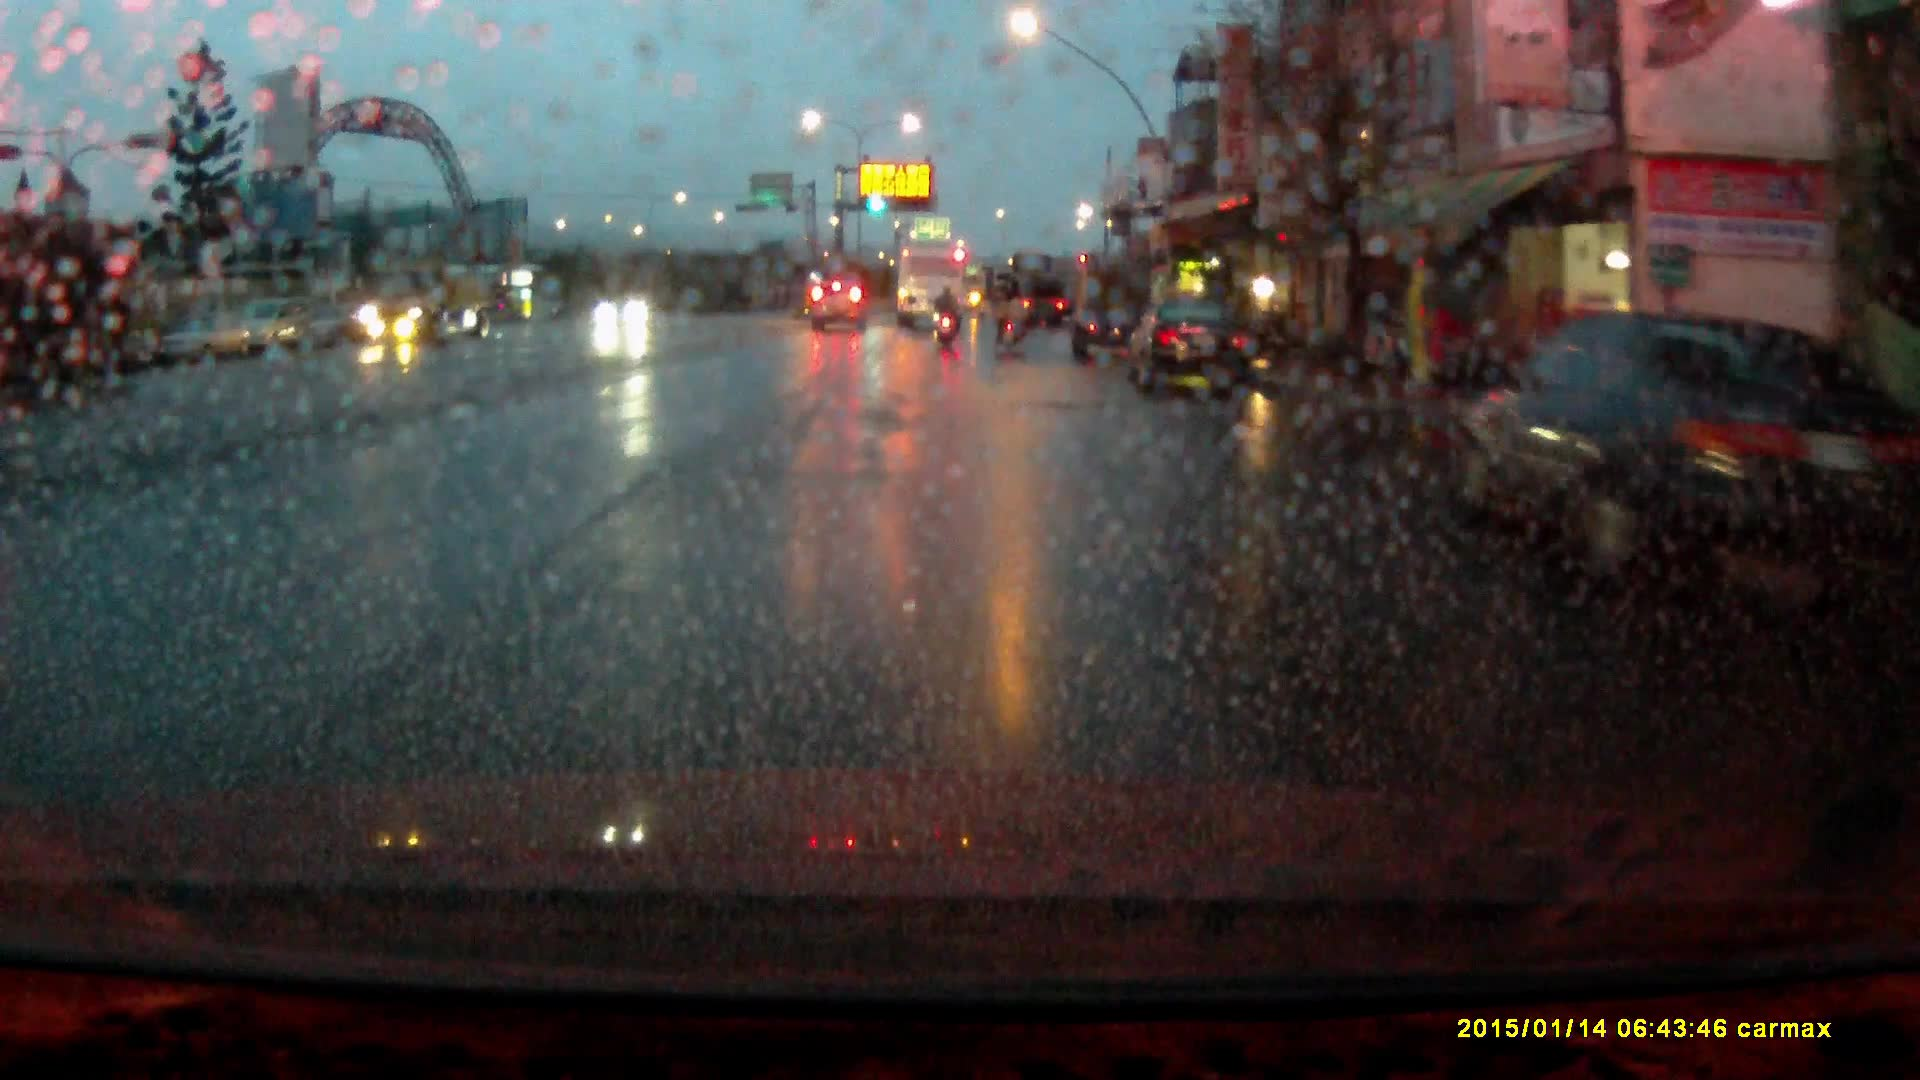rider: (991, 276, 1026, 358), (932, 287, 962, 351)
vehicle: (1439, 314, 1904, 607), (1129, 305, 1260, 398), (353, 264, 500, 346), (1069, 263, 1155, 364), (896, 246, 967, 333), (1004, 254, 1071, 330), (156, 310, 244, 367), (243, 300, 319, 352), (808, 279, 872, 337), (598, 293, 661, 331)
